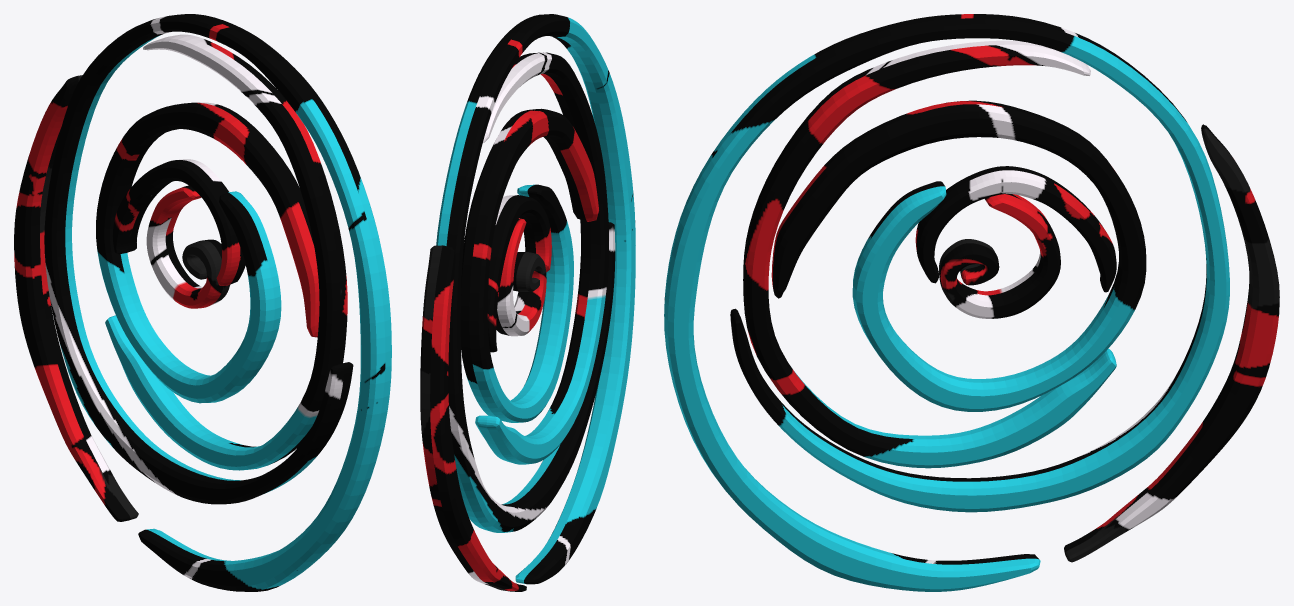
Rendered from onda4.gltf.
3 views of the same model, side by side, from view 1: azimuth 30°, elevation 25°; view 2: azimuth 150°, elevation 25°; view 3: azimuth 270°, elevation 25° (orthographic). The views are drawn at different scales.
Parts seen in each view (by area): view 1: Plane.005; view 2: Plane.005; view 3: Plane.005.
Part boxes in pixels (left/top/right/bottom): Plane.005: left=14, top=14, right=391, bottom=591; Plane.005: left=420, top=14, right=635, bottom=591; Plane.005: left=664, top=14, right=1279, bottom=591.
Size of the model in its own units: 1.82 by 8.35 by 7.9.
Materials: 1 (1 with a texture image).
